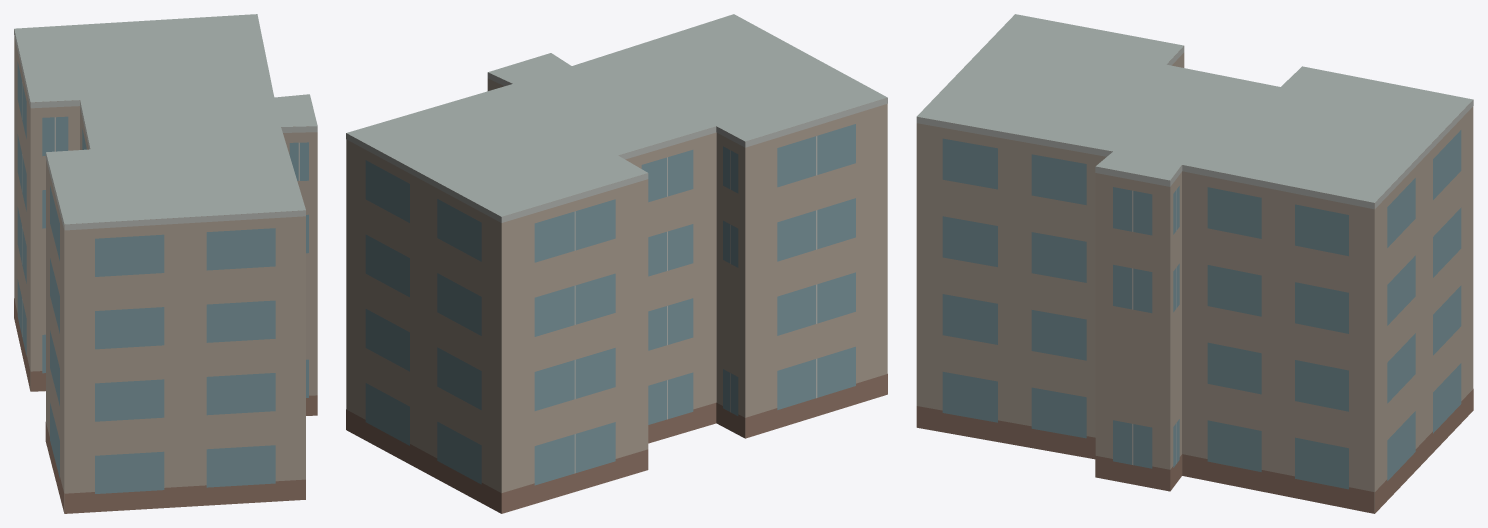
The model's file is survey-upis-32528044.glb.
3 renders of one model, left to right at view 1: azimuth 30°, elevation 25°; view 2: azimuth 150°, elevation 25°; view 3: azimuth 270°, elevation 25°, orthographic. The views are drawn at different scales.
Parts seen in each view (by area): view 1: survey-upis-32528044.tmp; view 2: survey-upis-32528044.tmp; view 3: survey-upis-32528044.tmp.
Boxes of the visible parts, x1,y1,x2,y2 form: survey-upis-32528044.tmp: (14,14,317,513); survey-upis-32528044.tmp: (346,14,887,513); survey-upis-32528044.tmp: (916,14,1473,513).
Size of the model in its own units: 15.32 by 11.75 by 19.08.
